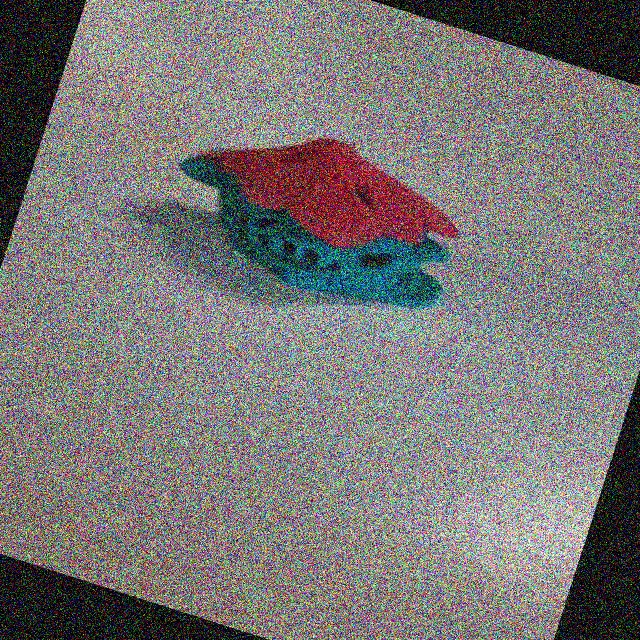House: (107, 68, 505, 383)
